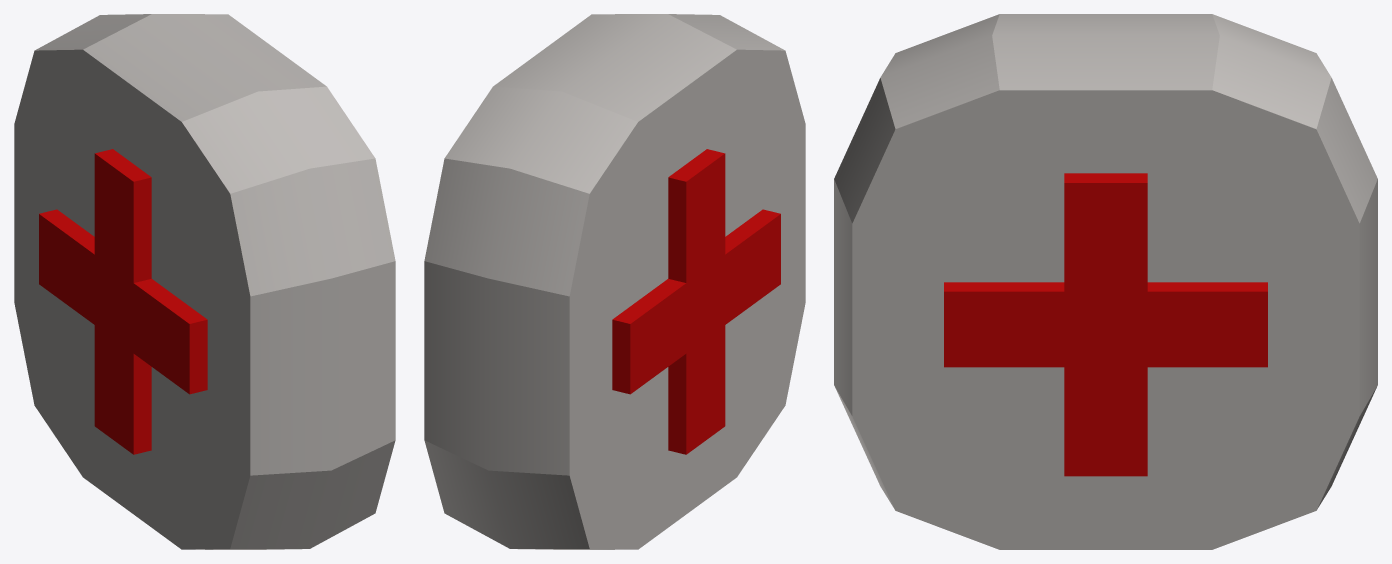
The model's file is HealthBox.fbx.
3 renders of one model, left to right at view 1: azimuth 30°, elevation 25°; view 2: azimuth 150°, elevation 25°; view 3: azimuth 270°, elevation 25°, orthographic. The views are drawn at different scales.
Visible parts, largest first — view 1: HealthBox; view 2: HealthBox; view 3: HealthBox.
Boxes of the visible parts, <box> form: HealthBox: <box>14,14,395,549</box>; HealthBox: <box>424,14,805,549</box>; HealthBox: <box>834,14,1377,549</box>.
Bounding box in the file's own units: 15 × 36.2 × 36.2.
